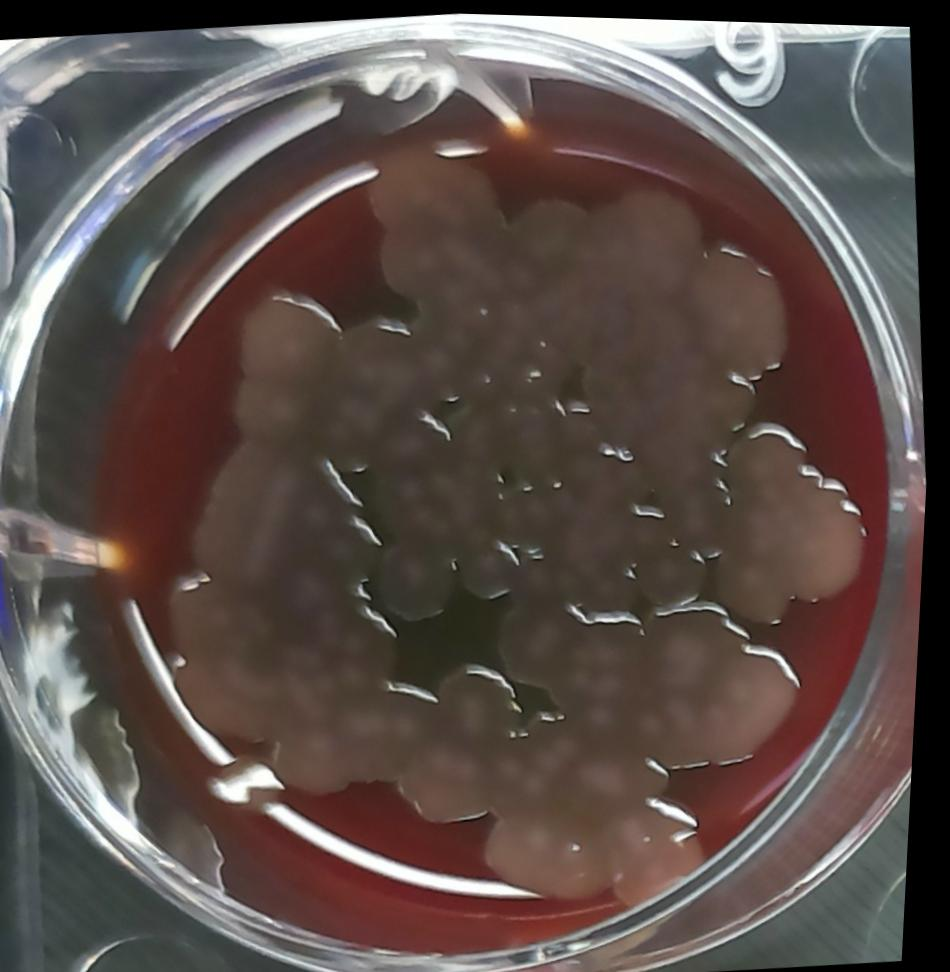vproteolyticus: (155, 405, 517, 845), (223, 258, 528, 623), (565, 170, 810, 489), (714, 412, 900, 634)
